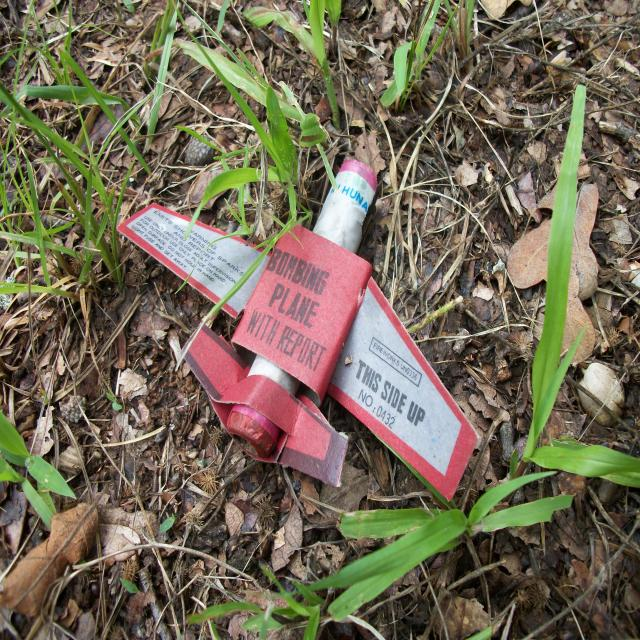cardboard: (369, 347, 467, 491)
